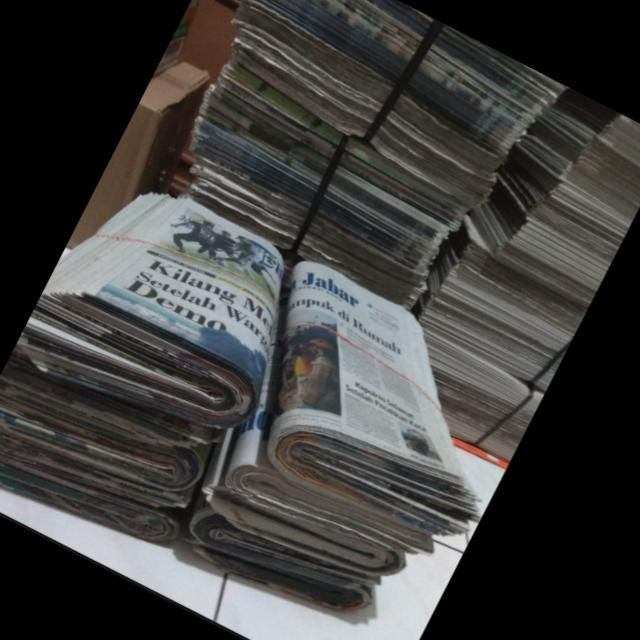Koran: (0, 154, 549, 640)
